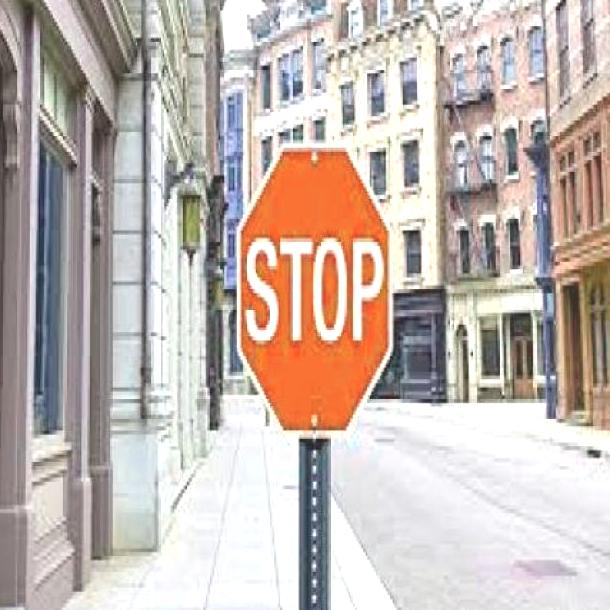stop_sign: (237, 142, 394, 442)
